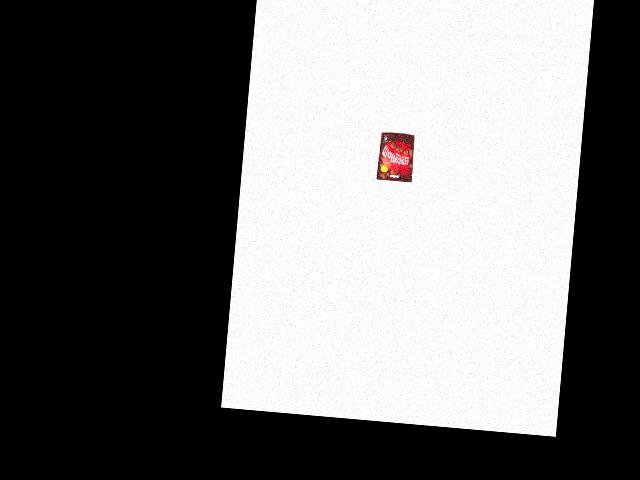chocolate: (376, 130, 416, 183)
